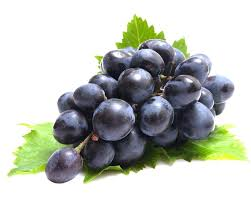Red Grapes: (37, 37, 251, 168)
